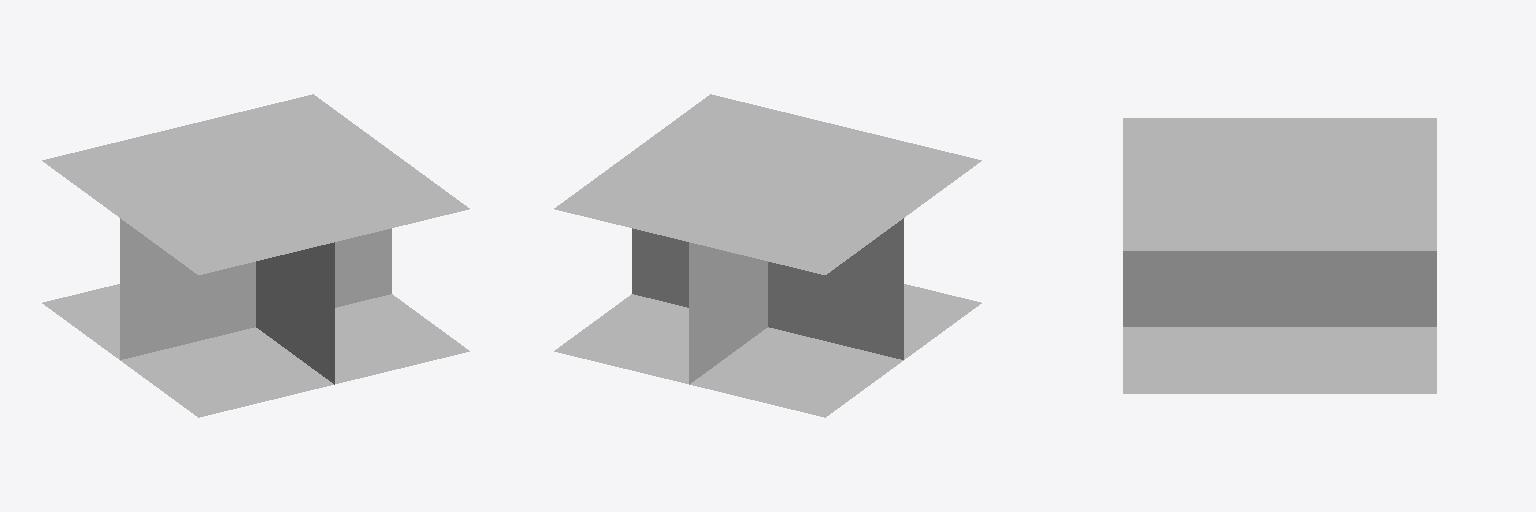
Rendered from tile.obj.
3 renders of one model, left to right at view 1: azimuth 30°, elevation 25°; view 2: azimuth 150°, elevation 25°; view 3: azimuth 270°, elevation 25°, orthographic.
Parts seen in each view (by area): view 1: 15, 11, 13, 12, 10, 5, 3, 4, 14, 2, 7, 8 (+2 smaller); view 2: 11, 3, 15, 8, 5, 4, 7, 13, 0, 10, 12, 2; view 3: 11, 13, 0, 2, 10, 5, 12, 3, 8, 4, 14, 7 (+2 smaller).
Boxes of the visible parts, <box> form: 15: <box>44,94,466,273</box>; 11: <box>49,129,468,307</box>; 13: <box>120,94,386,416</box>; 12: <box>47,96,468,416</box>; 10: <box>42,128,469,383</box>; 5: <box>47,96,468,416</box>; 3: <box>50,160,469,358</box>; 4: <box>47,96,389,417</box>; 14: <box>256,228,468,384</box>; 2: <box>120,185,334,383</box>; 7: <box>44,220,255,359</box>; 8: <box>44,130,255,358</box>; 11: <box>554,94,980,384</box>; 3: <box>556,96,981,415</box>; 15: <box>556,95,980,274</box>; 8: <box>556,185,903,382</box>; 5: <box>557,94,980,411</box>; 4: <box>556,158,977,415</box>; 7: <box>689,220,903,416</box>; 13: <box>554,153,979,359</box>; 0: <box>557,284,979,417</box>; 10: <box>555,130,979,383</box>; 12: <box>555,153,981,357</box>; 2: <box>768,130,972,358</box>; 11: <box>1123,118,1436,393</box>; 13: <box>1123,185,1436,326</box>; 0: <box>1123,327,1436,393</box>; 2: <box>1123,118,1279,326</box>; 10: <box>1123,118,1436,393</box>; 5: <box>1123,185,1436,326</box>; 12: <box>1123,118,1436,393</box>; 3: <box>1123,118,1436,393</box>; 8: <box>1280,118,1436,393</box>; 4: <box>1280,185,1436,326</box>; 14: <box>1123,251,1279,393</box>; 7: <box>1280,251,1436,326</box>.
Size of the model in its own units: 2 by 1 by 2.